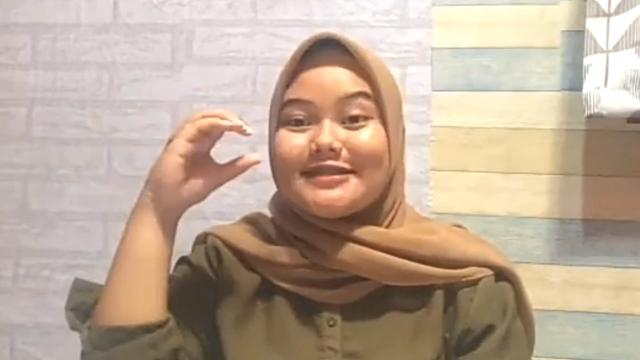C: (148, 108, 262, 216)
